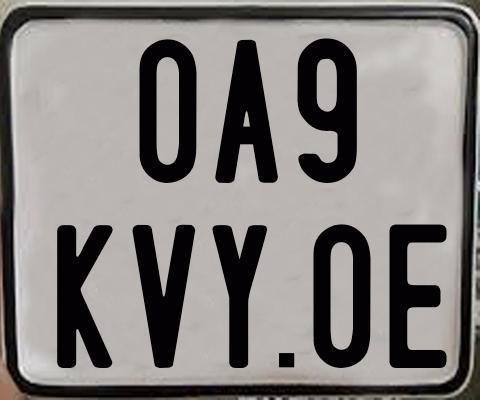0: (312, 222, 374, 367), (137, 36, 198, 181)
9: (294, 36, 360, 186)
A: (215, 38, 284, 186)
E: (388, 223, 450, 369)
K: (54, 225, 114, 368)
V: (132, 225, 198, 370)
Y: (210, 222, 265, 365)
